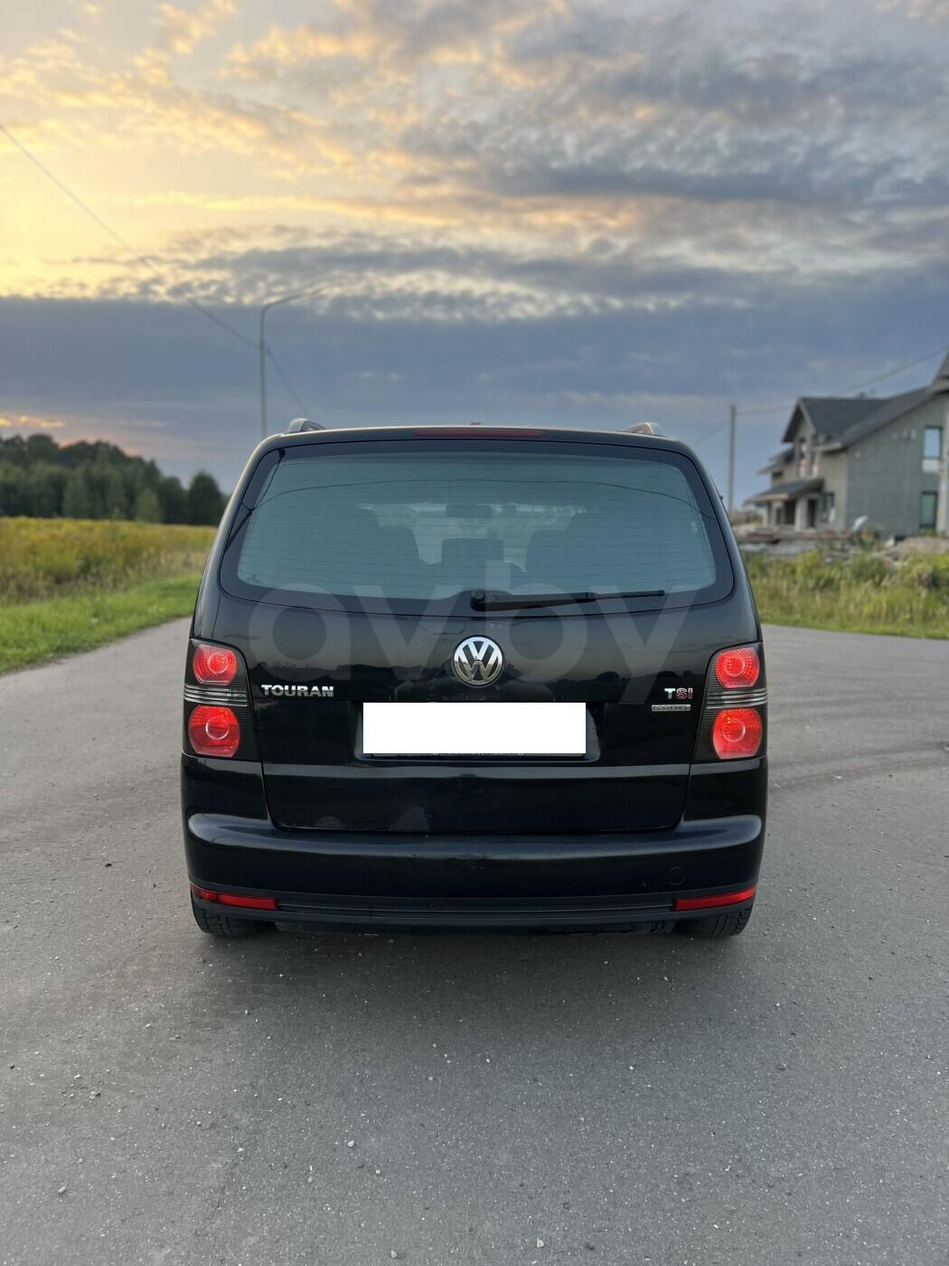Touran_2006-2010: (170, 420, 774, 959)
